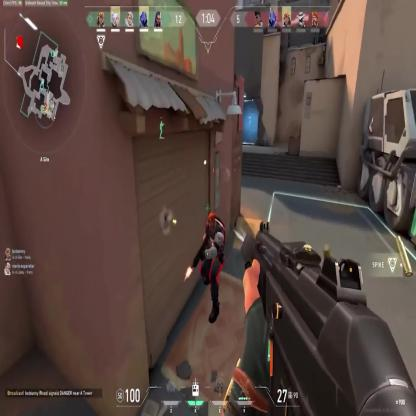enemy: (199, 212, 226, 322)
enemy_head: (207, 213, 215, 231)
